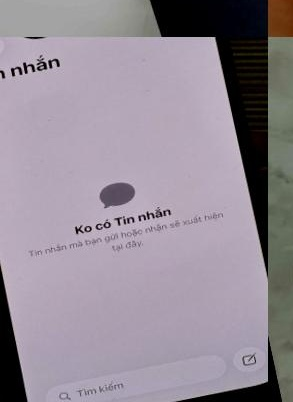screen_defect: (0, 37, 95, 56)
